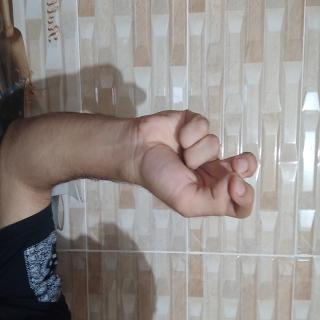QAAF: (78, 77, 168, 262)
